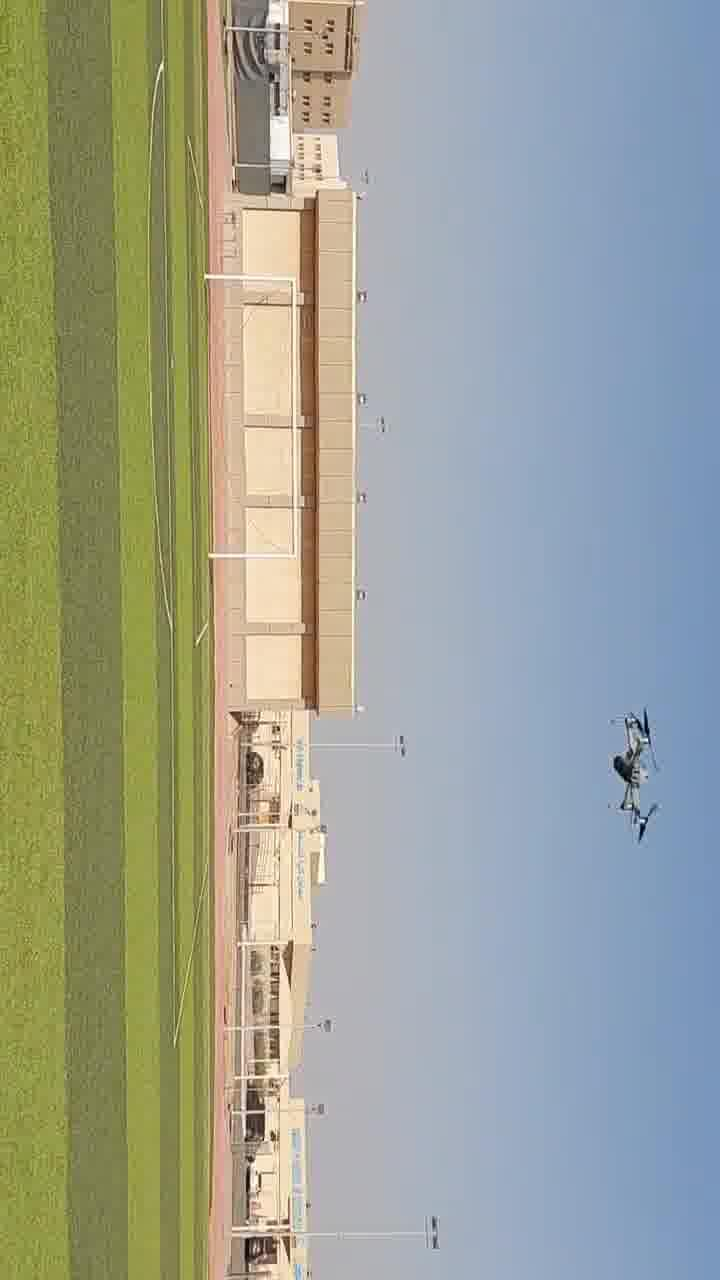drone: (397, 100, 471, 217)
